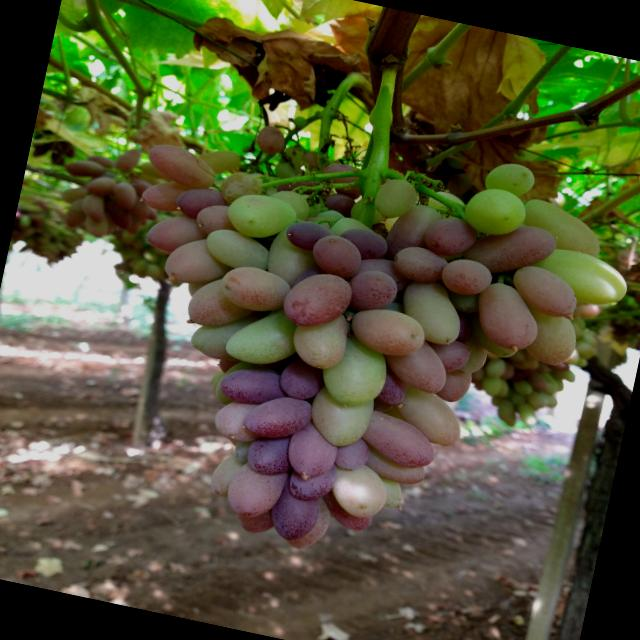grapes: (457, 213, 561, 287), (526, 242, 632, 310), (378, 376, 470, 451), (222, 300, 306, 372), (468, 278, 547, 354), (314, 336, 391, 413), (186, 300, 274, 367), (184, 268, 268, 336), (356, 406, 441, 472), (516, 196, 606, 257), (278, 266, 356, 336), (392, 276, 468, 346), (222, 451, 290, 524), (348, 301, 428, 363), (376, 331, 452, 395), (304, 384, 374, 452), (238, 386, 316, 446), (220, 188, 300, 246), (260, 226, 326, 296), (503, 260, 582, 318), (160, 232, 236, 292), (378, 198, 441, 270), (216, 261, 295, 318), (285, 305, 351, 373), (264, 474, 323, 546), (281, 416, 344, 482), (514, 305, 578, 369), (458, 182, 528, 240), (142, 141, 220, 192), (327, 459, 390, 522), (215, 360, 291, 412), (142, 207, 214, 261), (200, 226, 274, 276), (242, 426, 302, 480), (207, 394, 269, 446), (360, 441, 430, 486), (342, 264, 398, 320), (316, 486, 378, 536), (388, 242, 453, 289), (419, 213, 480, 262), (307, 232, 366, 282), (464, 312, 523, 361), (288, 495, 334, 554), (138, 172, 198, 216), (173, 180, 230, 226), (284, 457, 338, 505), (274, 358, 329, 404), (438, 254, 494, 298), (370, 174, 420, 223), (206, 448, 250, 502), (334, 224, 391, 265), (482, 157, 536, 199), (424, 331, 472, 376), (192, 200, 245, 240), (348, 254, 402, 292), (262, 187, 310, 229), (282, 216, 334, 254), (371, 362, 412, 408), (218, 168, 262, 210), (424, 188, 469, 224), (432, 364, 472, 404), (317, 160, 364, 194), (234, 498, 276, 536), (196, 144, 242, 178), (332, 434, 370, 474), (368, 472, 407, 510), (442, 286, 484, 315), (456, 338, 488, 376), (63, 155, 106, 182), (99, 199, 135, 231), (253, 124, 285, 158), (320, 190, 354, 218), (84, 173, 118, 200), (80, 192, 108, 224), (62, 200, 90, 232), (230, 438, 260, 466), (110, 180, 138, 210), (114, 145, 140, 175), (59, 182, 89, 207), (568, 299, 602, 321), (81, 212, 109, 238), (482, 354, 508, 382), (496, 398, 520, 427), (514, 402, 540, 427), (215, 353, 242, 376), (536, 372, 560, 396), (132, 179, 158, 201), (523, 370, 549, 392), (479, 375, 502, 397), (509, 378, 534, 397), (86, 154, 117, 168), (125, 212, 143, 235), (525, 388, 545, 408), (544, 358, 570, 372), (500, 362, 516, 382), (557, 368, 576, 382), (542, 392, 558, 408), (551, 376, 565, 392)
